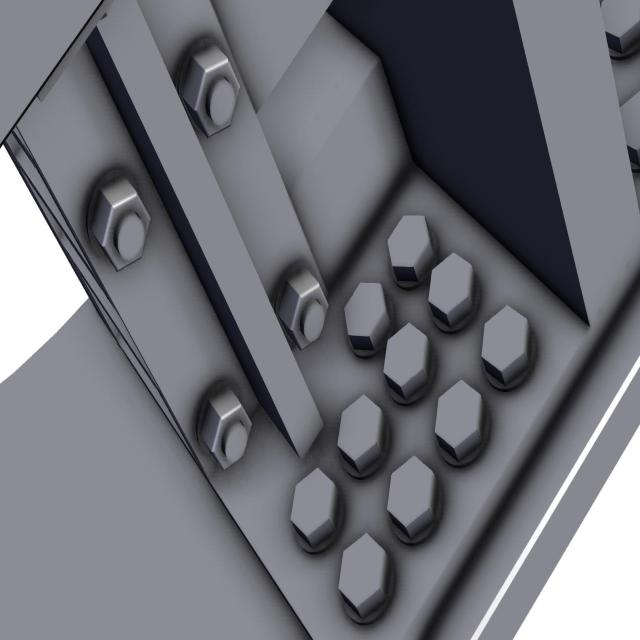bolt head: (384, 454, 438, 542), (338, 532, 389, 618), (432, 377, 483, 463), (481, 304, 532, 386), (289, 466, 339, 549), (382, 321, 432, 399), (337, 393, 385, 474), (427, 249, 476, 328), (387, 212, 435, 285), (343, 280, 391, 352)
bolt nut: (90, 174, 152, 274), (181, 45, 240, 139), (198, 384, 253, 472), (276, 268, 330, 352)
